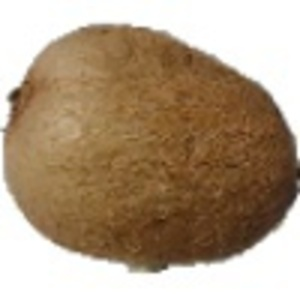kiwi: (1, 21, 300, 277)
